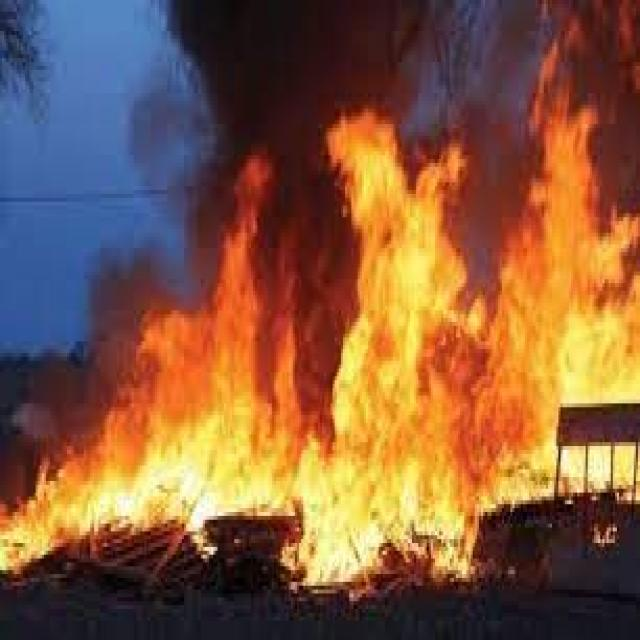fire: (2, 143, 316, 590), (479, 27, 640, 516), (316, 112, 477, 586)
smoke: (159, 4, 477, 151)
